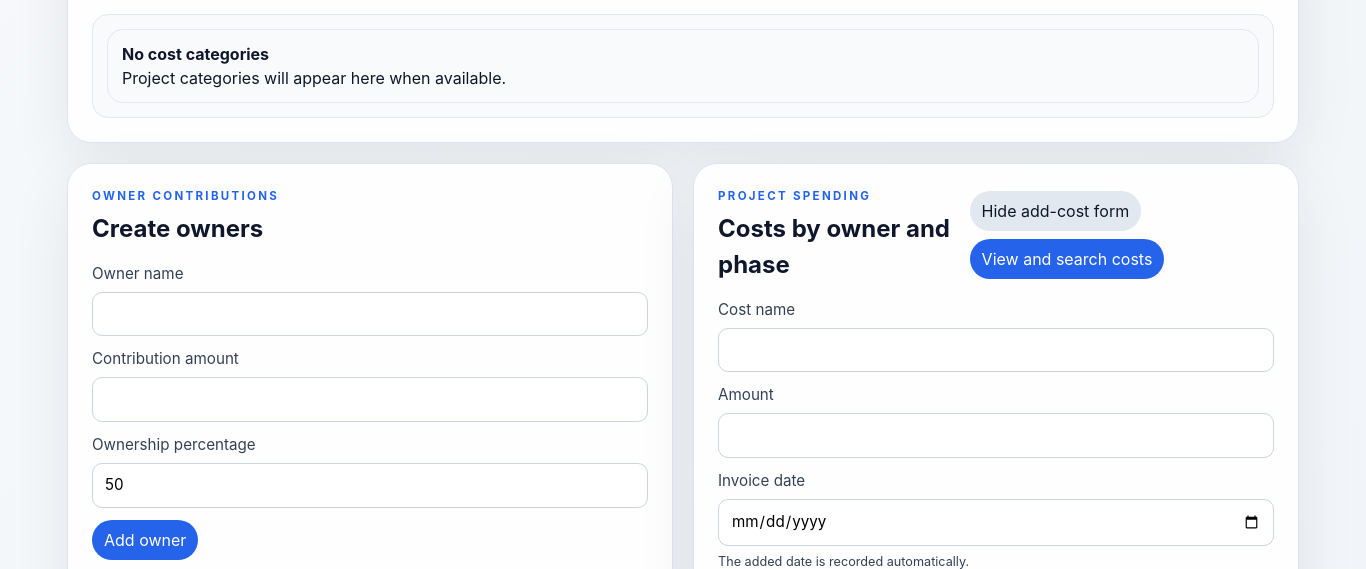
Test: App › lets a user add owner-specific costs such as loan interest
The width and height of the screenshot is (1366, 569).
(page scrolled)
Step 1. Type "Cost Owner" into the field labelled "Owner name" → (370, 314), box [92,292,648,336]
Step 2. Type "0" into the number field labelled "Contribution amount" → (370, 400), box [92,377,648,422]
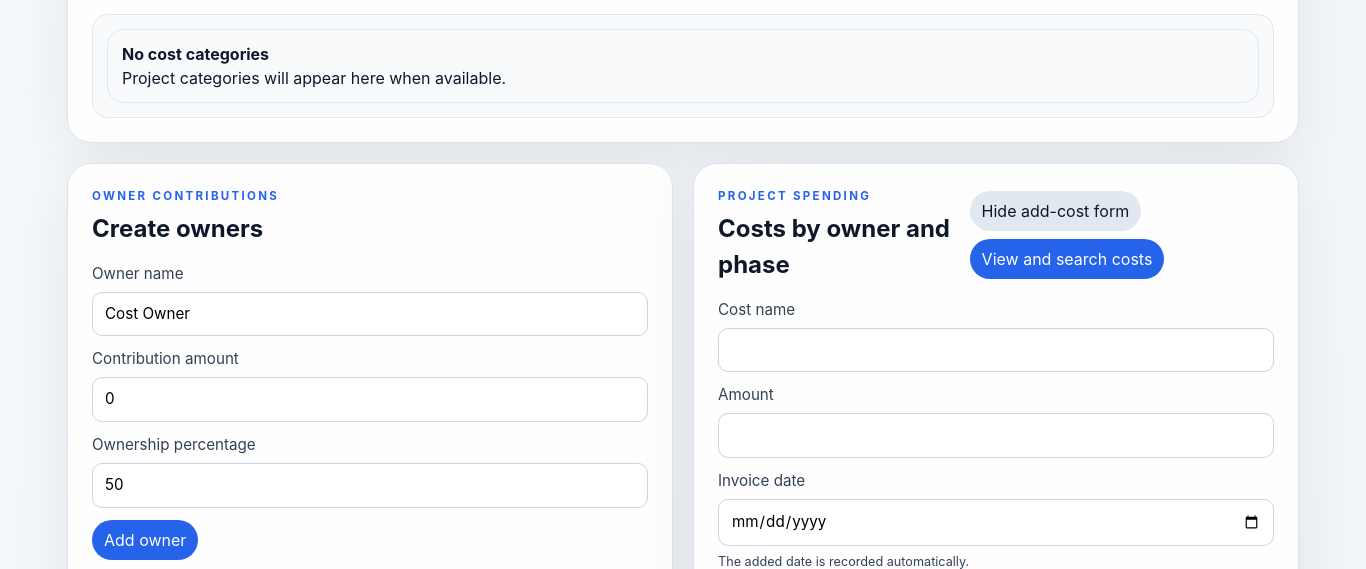
Step 3. Click the button "Add owner" → (145, 540), box [92,520,198,560]
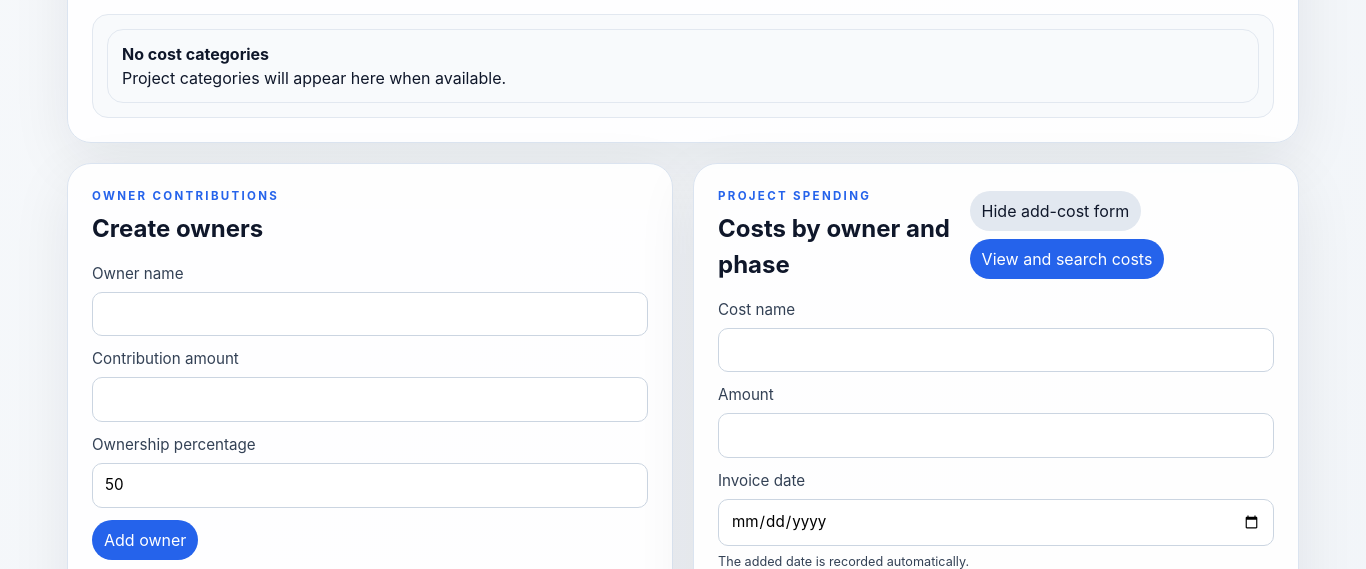
Step 4. Type "Personal loan interest" into the field labelled "Cost name" → (996, 350), box [718,328,1274,372]
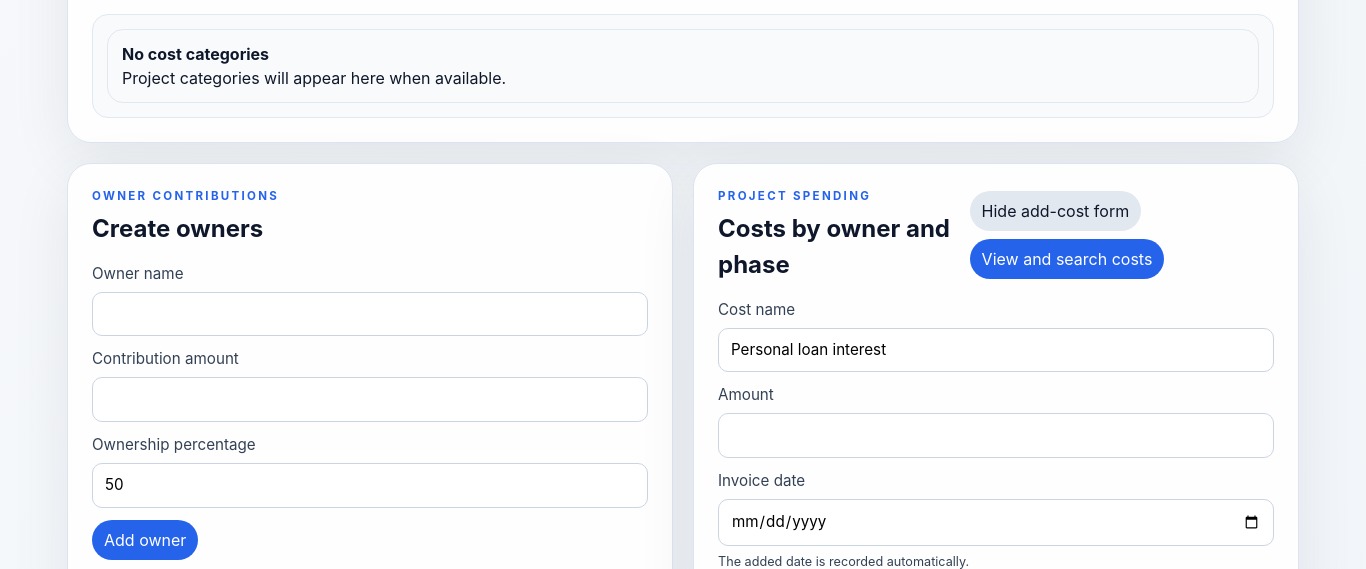
Step 5. Type "1250" into the number field named "cost amount" → (996, 436), box [718,413,1274,458]
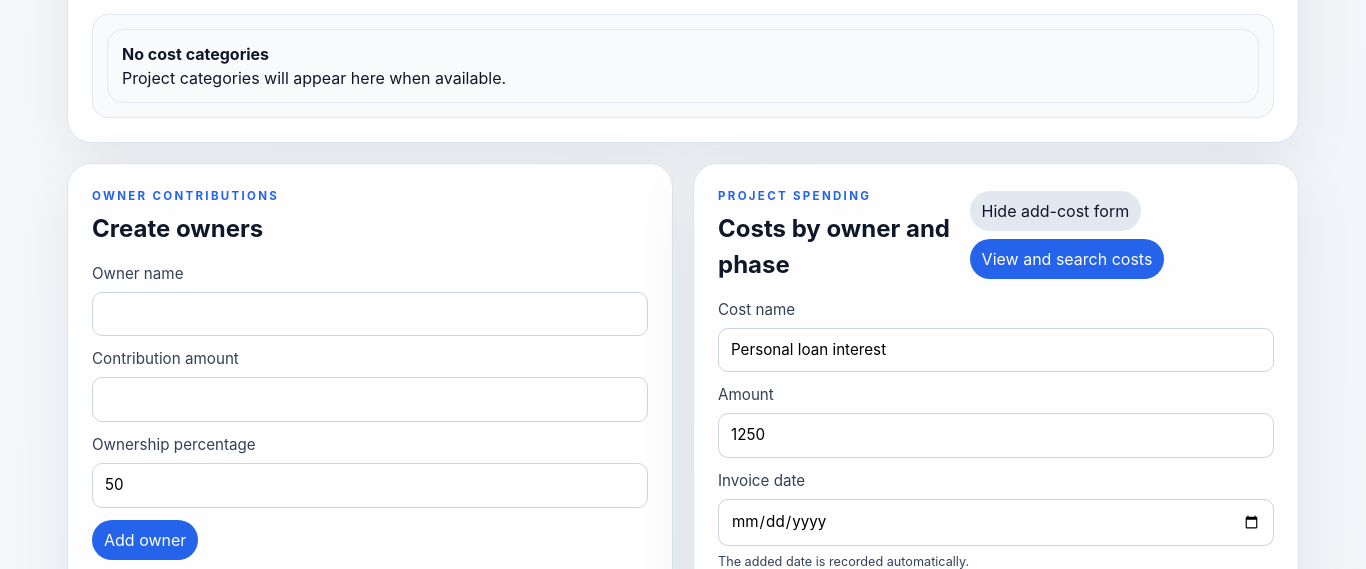
Step 6. Type "2026-07-13" into the date field labelled "Invoice date The added date is recorded automatically." → (996, 522), box [718,499,1274,546]
(page scrolled)
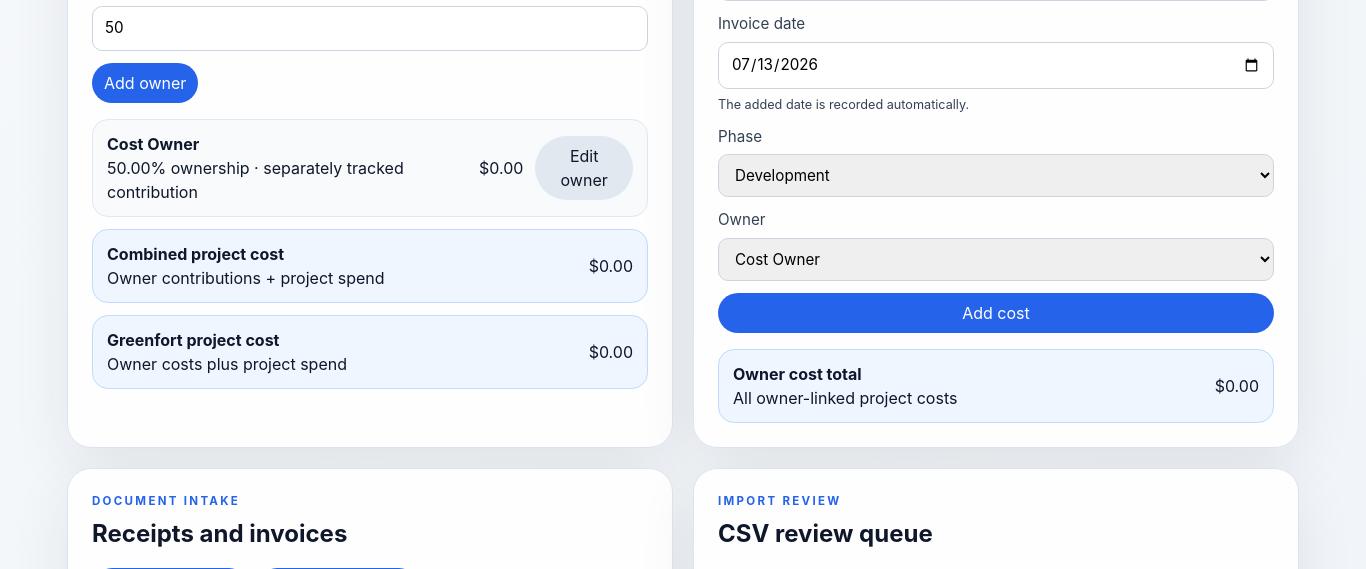
Step 7. Click the button "Add cost" → (996, 313), box [718,293,1274,333]
(page scrolled)
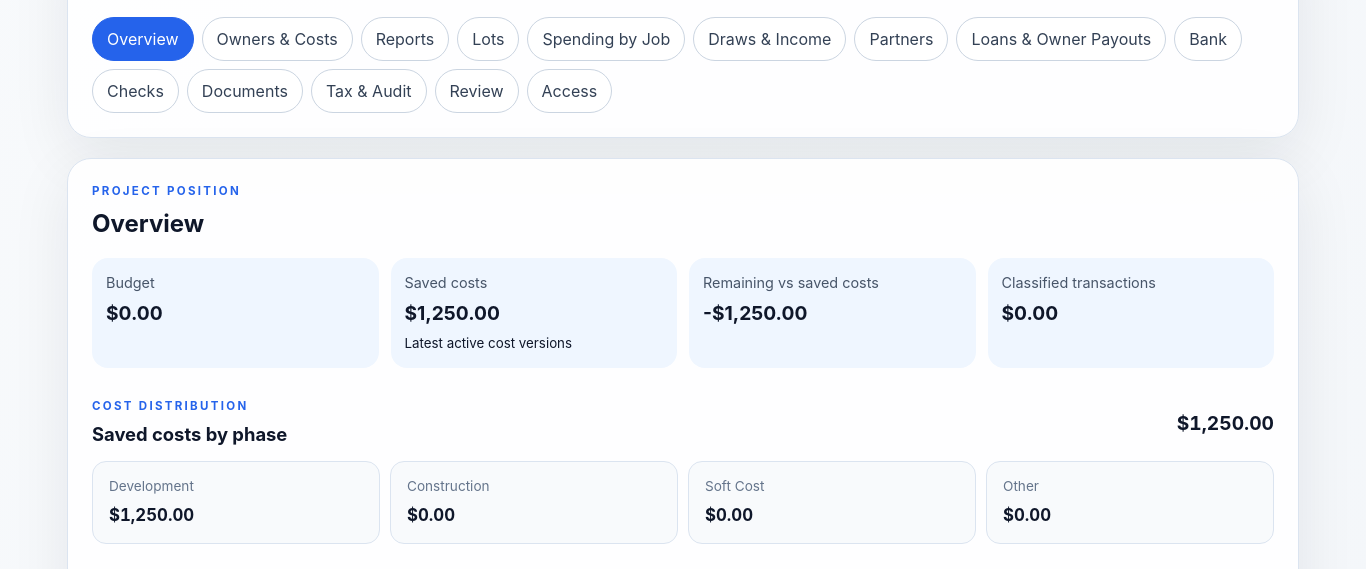
Expected: the text "$1,250.00" next to "-$1,250.00" is shown, [404,301,500,325]
